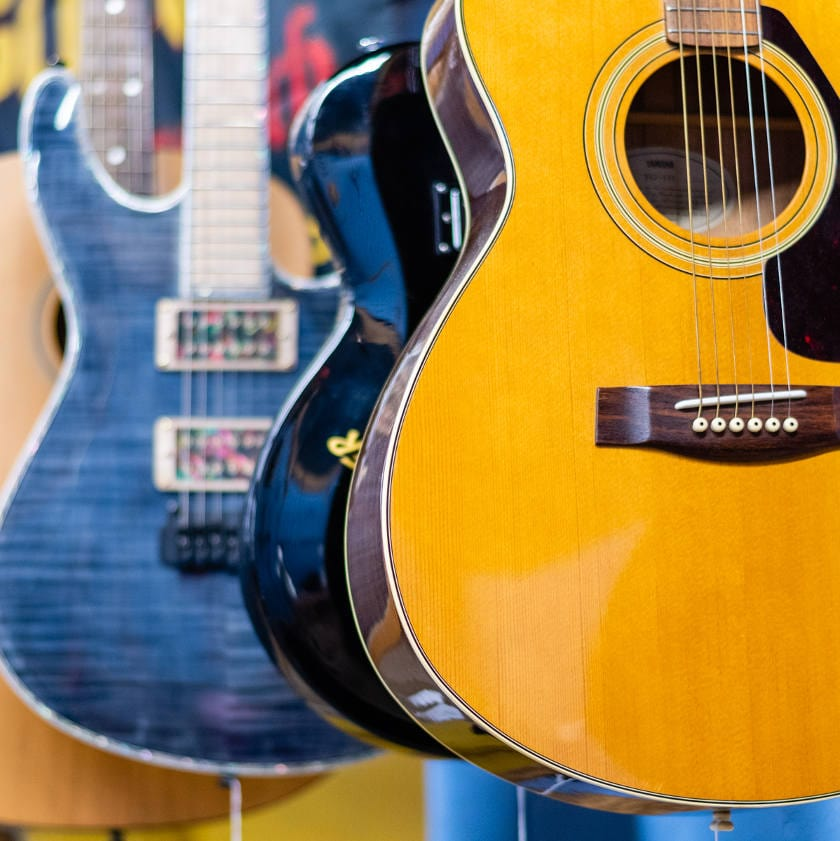guitar: (43, 0, 839, 837)
